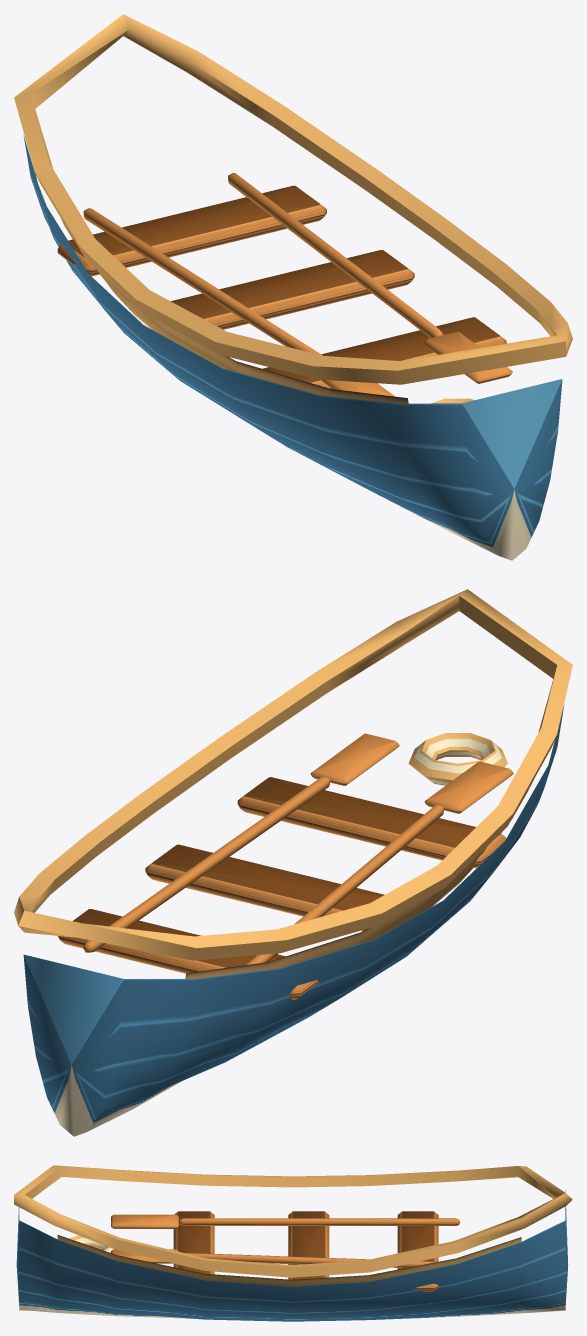
The model's file is rowboat.glb.
3 renders of one model, top to bottom at view 1: azimuth 30°, elevation 25°; view 2: azimuth 150°, elevation 25°; view 3: azimuth 270°, elevation 25°, orthographic. The views are drawn at different scales.
Parts seen in each view (by area): view 1: rowboat; view 2: rowboat; view 3: rowboat.
Boxes of the visible parts, box(x1,y1,x2,y2) form: rowboat: box(14, 14, 572, 560); rowboat: box(14, 589, 572, 1136); rowboat: box(14, 1165, 572, 1321).
Size of the model in its own units: 1.65 by 1.08 by 4.09.
2 materials, 2 textured.
